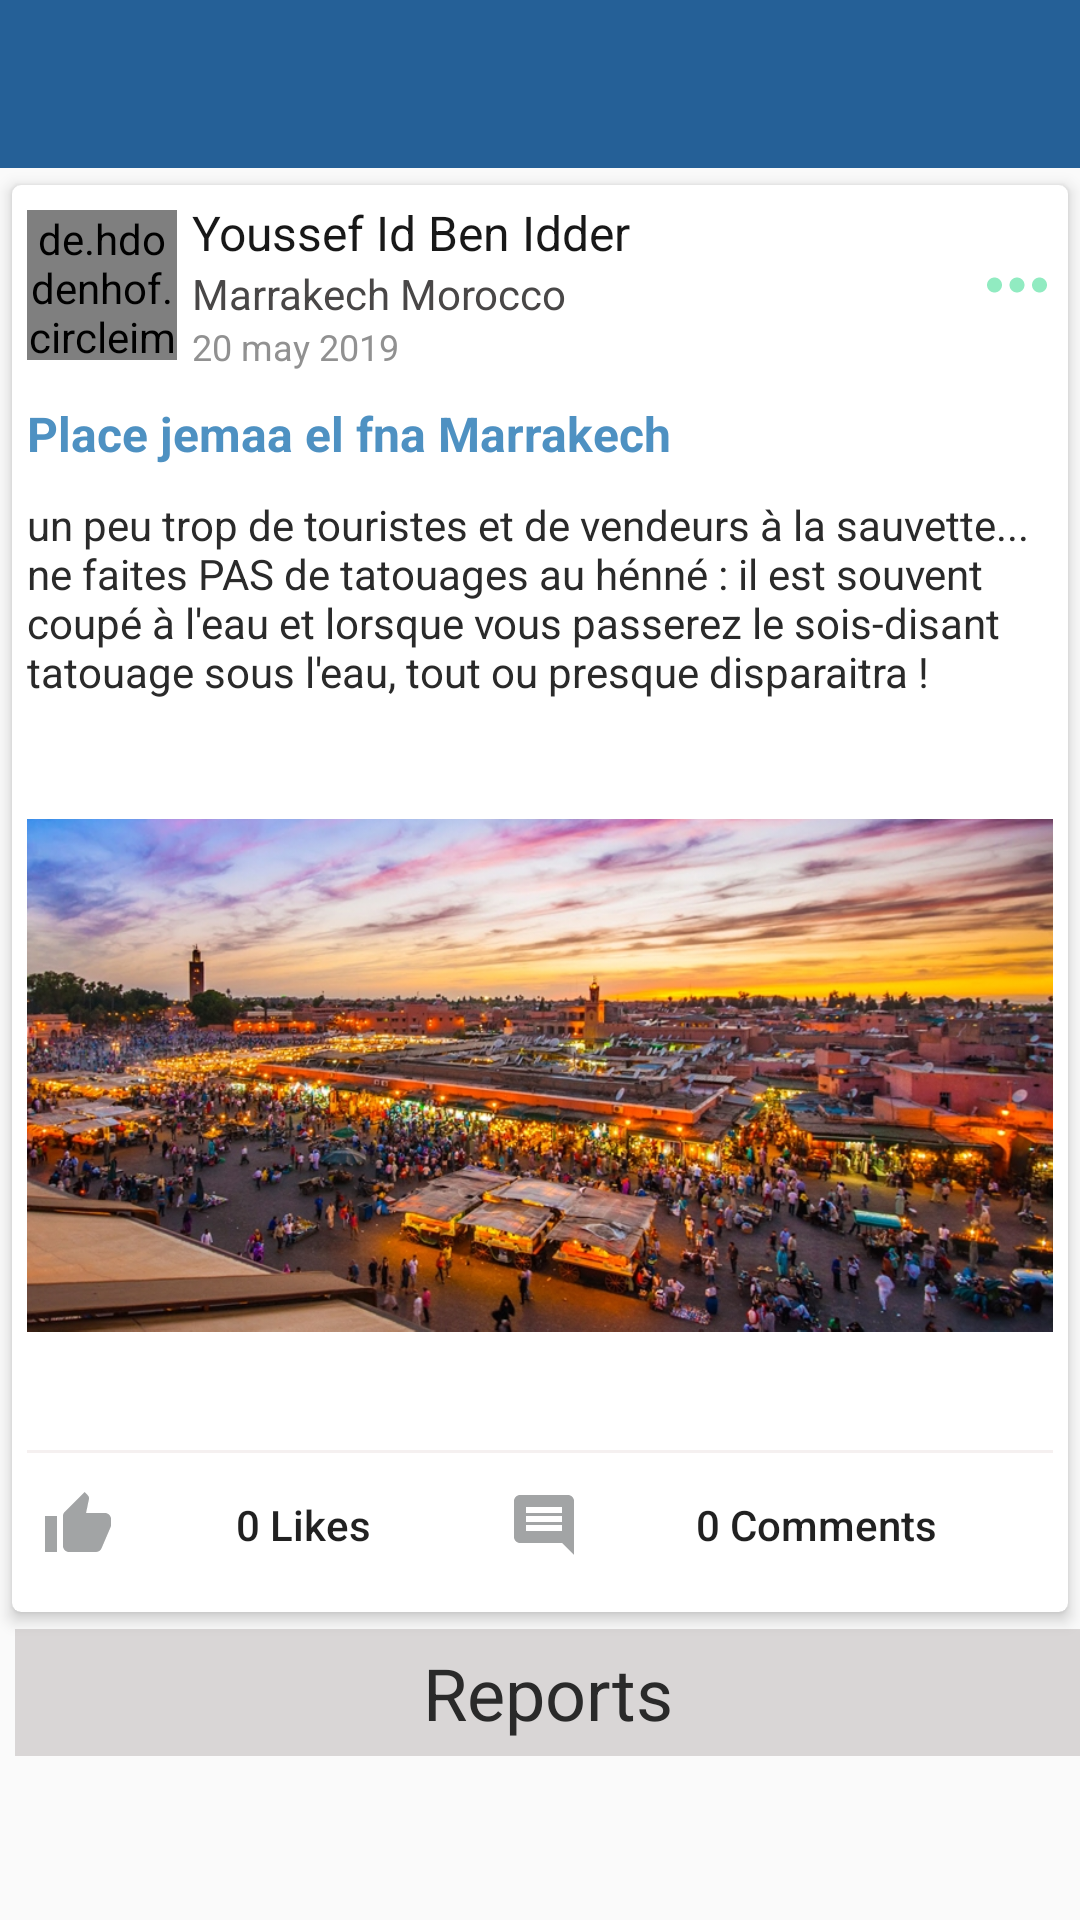

Icons on this 1080x1920 Android screen, each with its box as (x1, y1, x2, y2):
more: (987, 277, 1047, 293)
